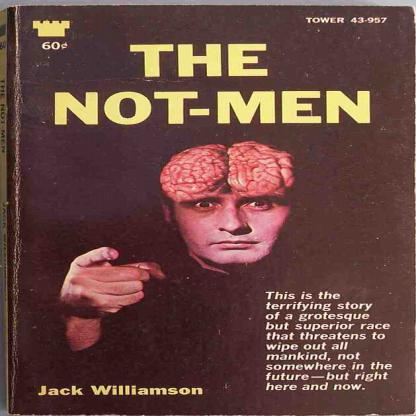book: (6, 12, 406, 358)
